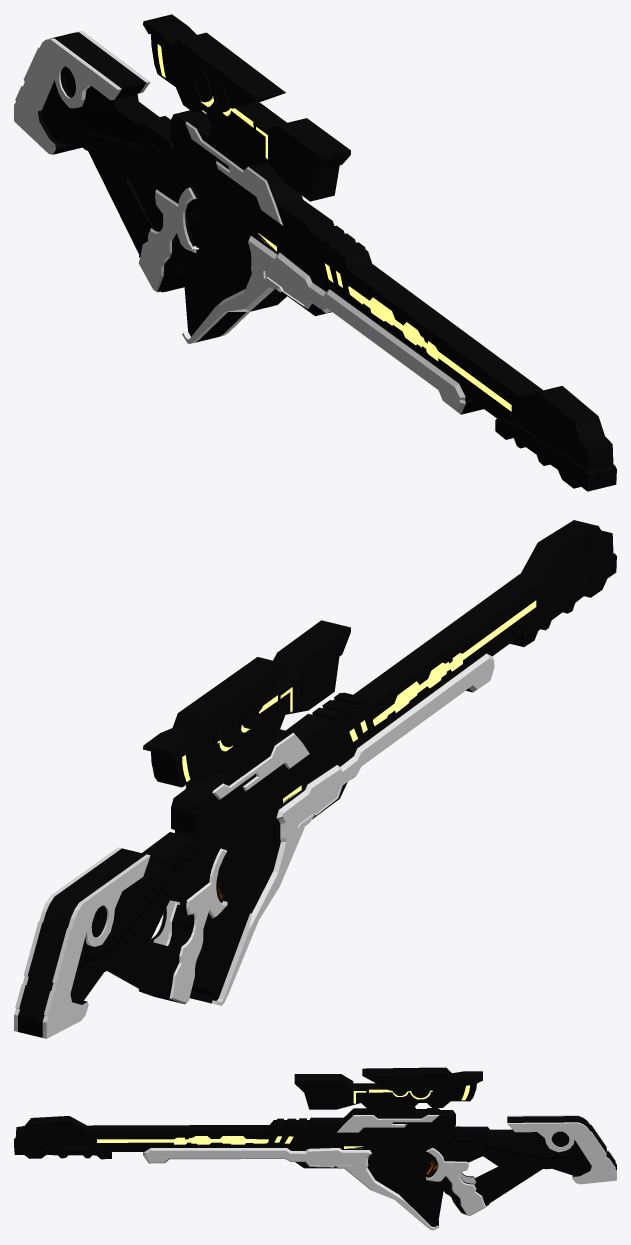
The model's file is ScifiSniper2.fbx.
3 renders of one model, top to bottom at view 1: azimuth 30°, elevation 25°; view 2: azimuth 150°, elevation 25°; view 3: azimuth 270°, elevation 25°, orthographic. The views are drawn at different scales.
Visible parts, largest first — view 1: Scifi Sniper 2; view 2: Scifi Sniper 2; view 3: Scifi Sniper 2.
Boxes of the visible parts, left/top/right/bottom form: Scifi Sniper 2: left=14, top=14, right=616, bottom=491; Scifi Sniper 2: left=14, top=520, right=616, bottom=1038; Scifi Sniper 2: left=14, top=1067, right=616, bottom=1230.
Size of the model in its own units: 7.11 by 57.86 by 204.
